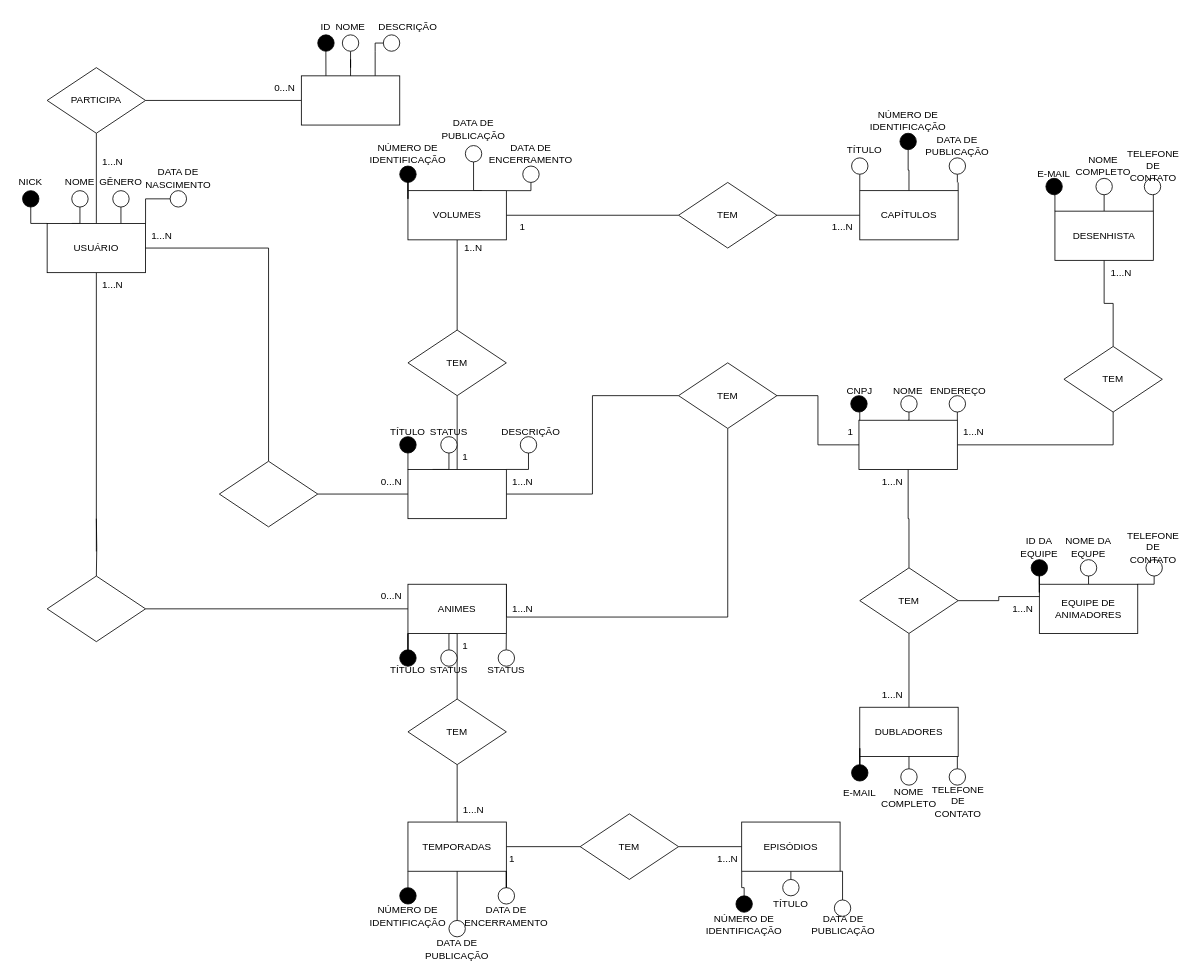
This 1193x975 diagram has some shape labels left out. Each missing label, with the centre of its shape:
ASSISTE: (x=96, y=608)
CLUBES: (x=350, y=100)
ESTÚDIO DE PUBLICAÇÃO: (x=907, y=444)
LÊ: (x=268, y=493)
MANGÁS: (x=456, y=494)
